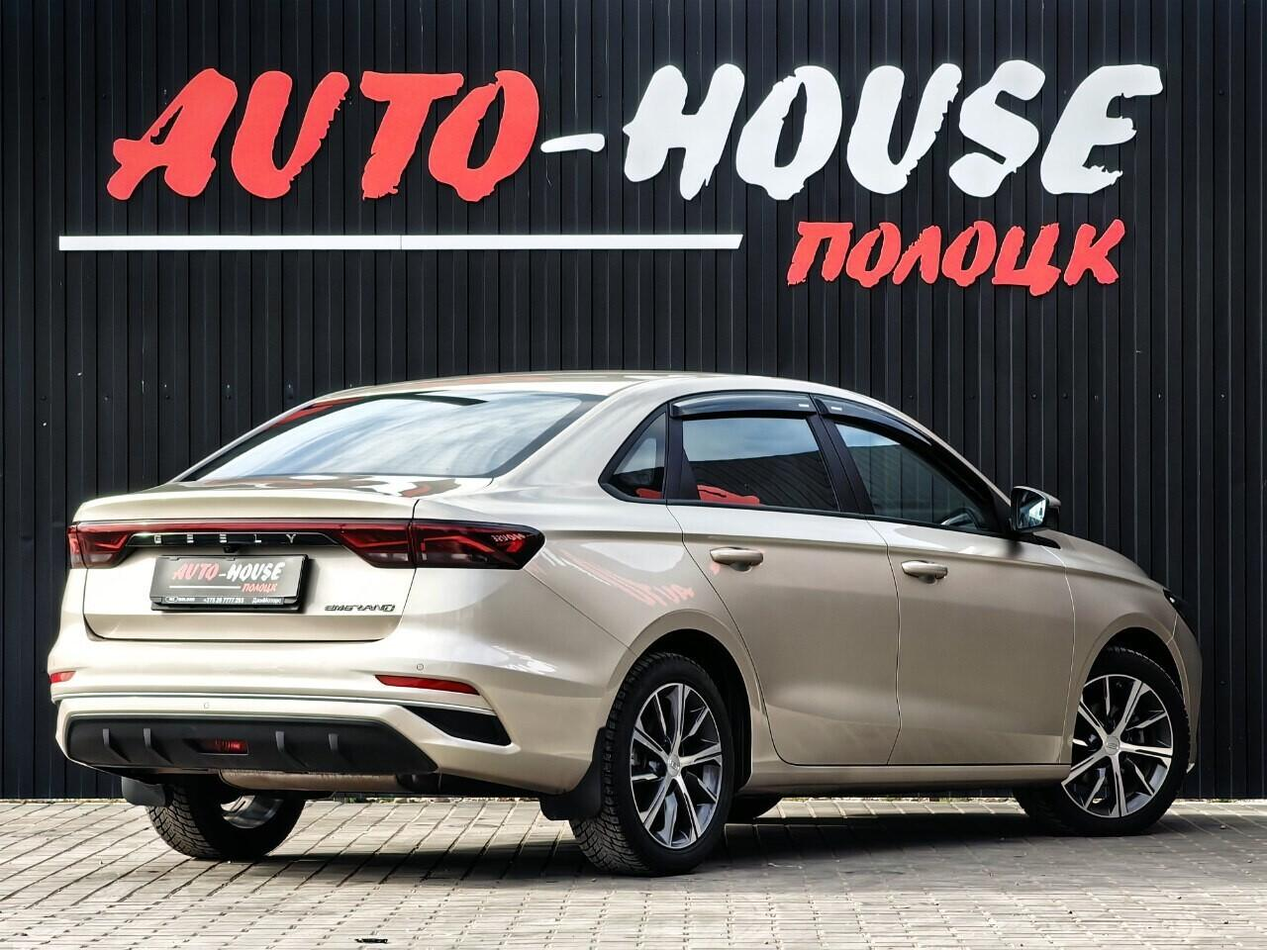Emgrand_2021: (43, 360, 1219, 865)
